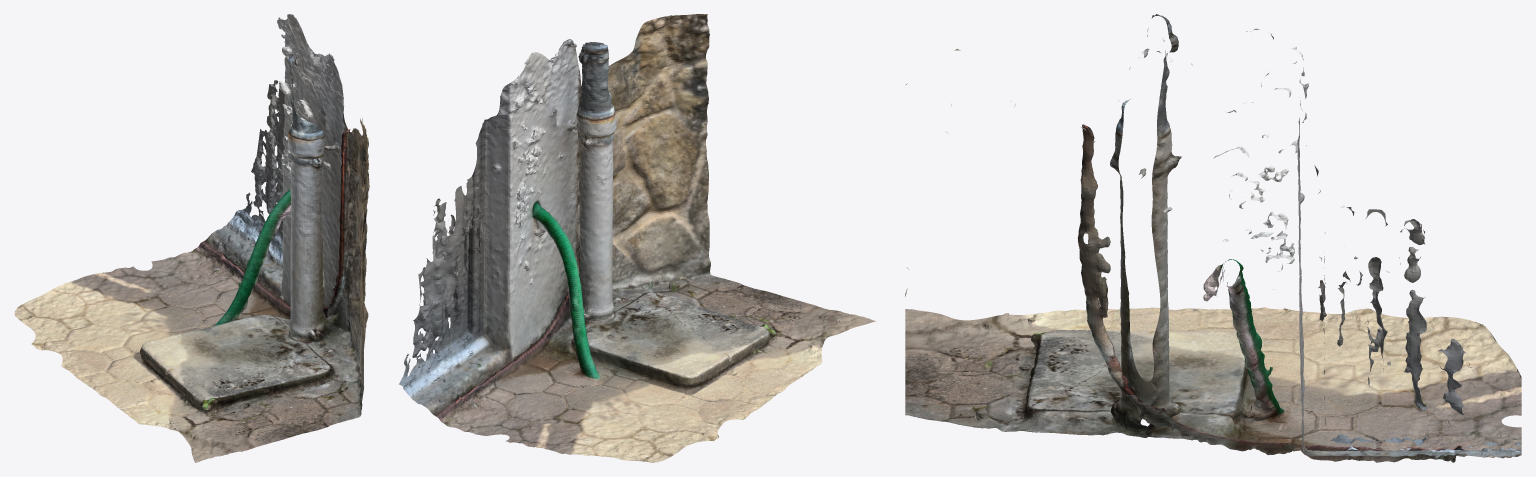
Rendered from Fibre.glb.
3 renders of one model, left to right at view 1: azimuth 30°, elevation 25°; view 2: azimuth 150°, elevation 25°; view 3: azimuth 270°, elevation 25°, orthographic. The views are drawn at different scales.
Bounding box in the file's own units: 1.03 × 1.15 × 1.47.
Materials: 1 (1 with a texture image).
